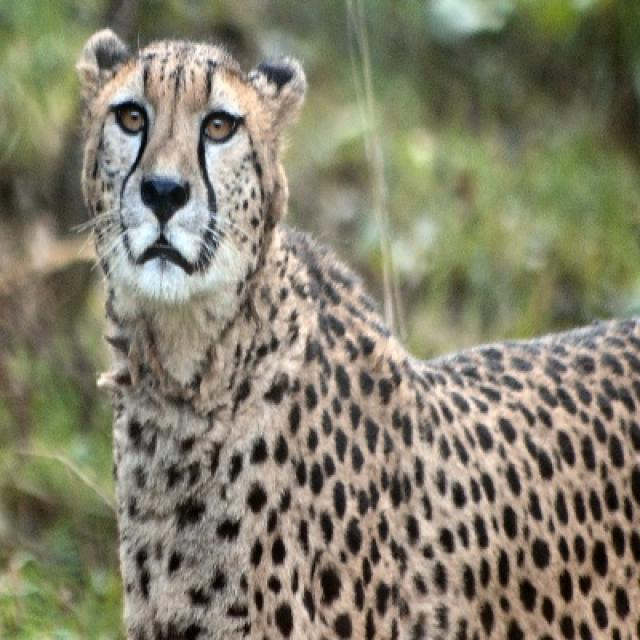Cheetah: (77, 29, 638, 638)
